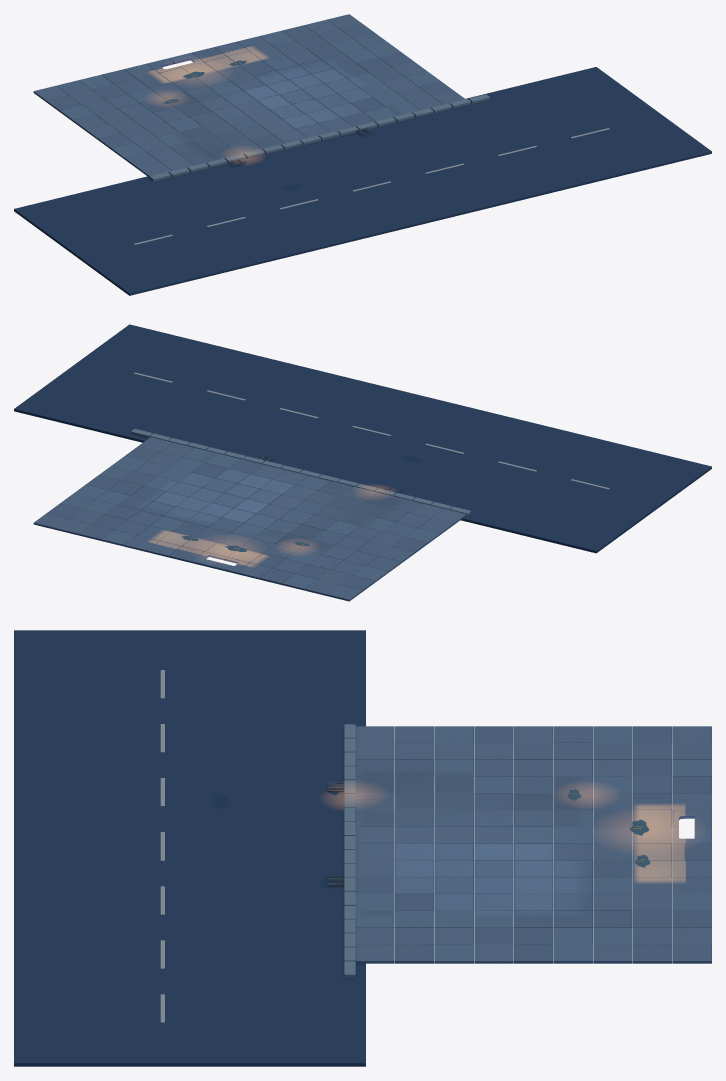
Rendered from ground_pavement_atlas_v1.glb.
The picture shows the model from 3 angles, top to bottom: view 1: azimuth 30°, elevation 25°; view 2: azimuth 150°, elevation 25°; view 3: azimuth 270°, elevation 25°; orthographic projection. The views are drawn at different scales.
Visible parts, largest first — view 1: street_ground_UV; view 2: street_ground_UV; view 3: street_ground_UV.
Part boxes in pixels (x1=…): street_ground_UV: x1=14, y1=14, x2=711, y2=295; street_ground_UV: x1=14, y1=324, x2=711, y2=601; street_ground_UV: x1=14, y1=630, x2=711, y2=1066.
Size of the model in its own units: 32 by 0.28 by 21.82.
Materials: 1 (1 with a texture image).
